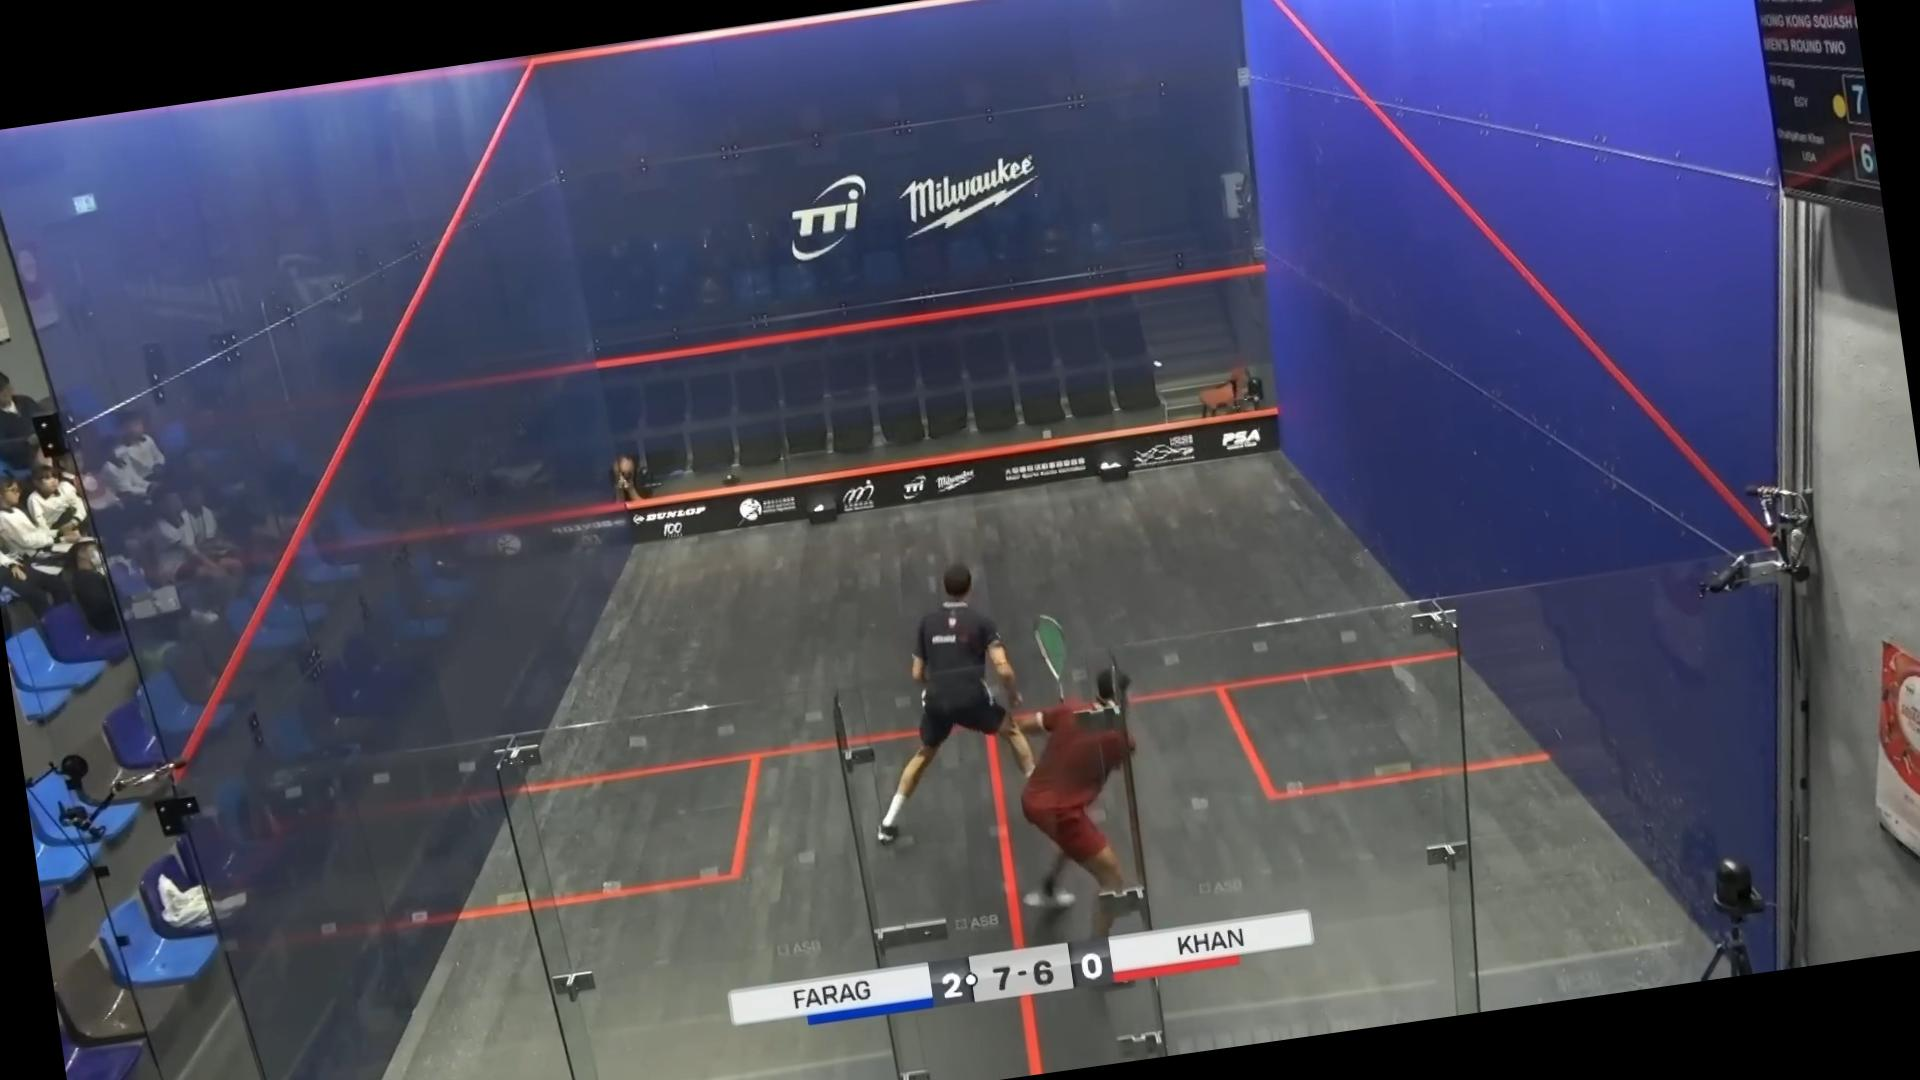Racket: (1029, 617, 1080, 713)
